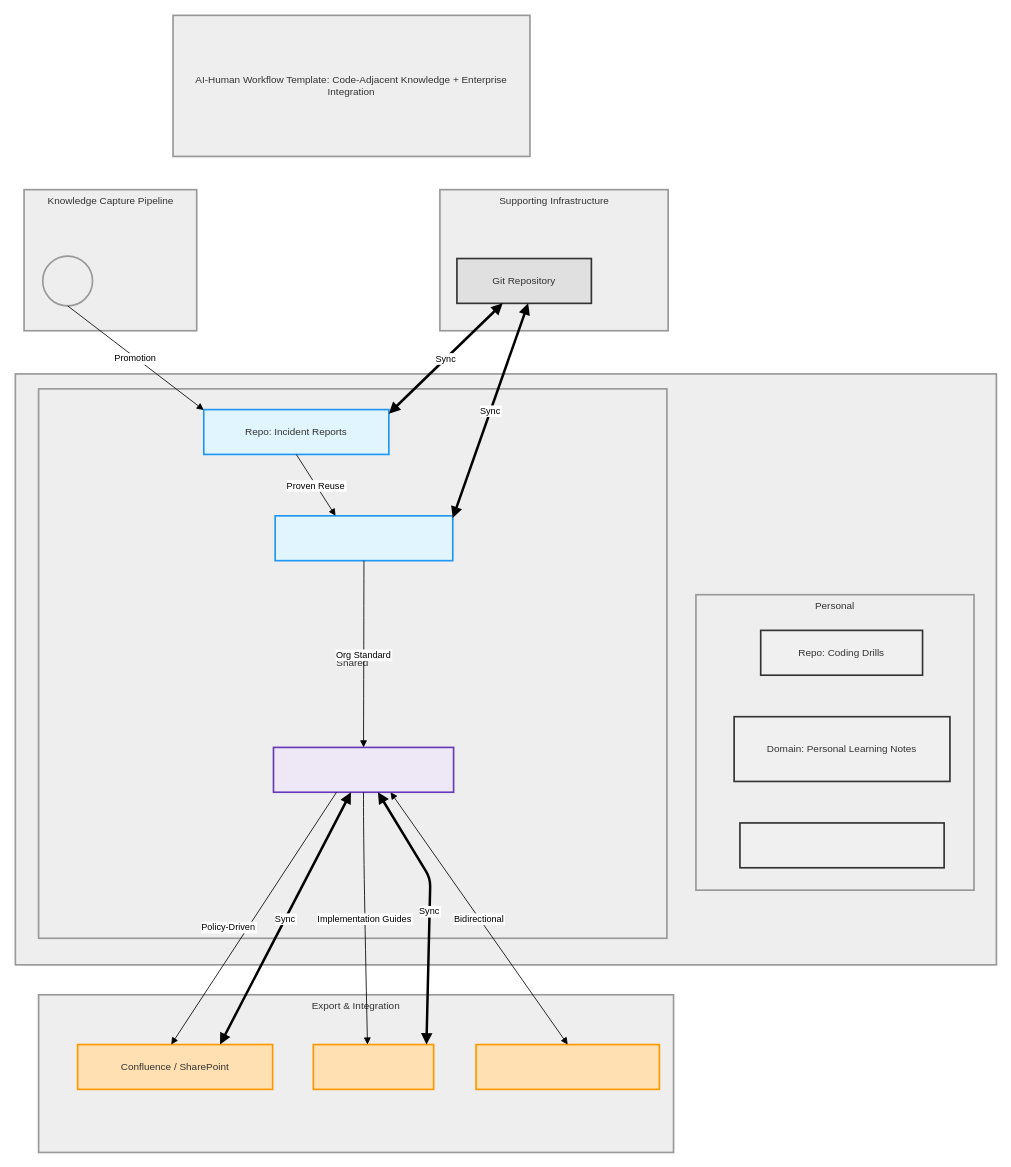
This 1011x1167 diagram has some shape labels left out. The centre of each missing label's shape, as x and y in pixels:
"Architecture Decisions" belongs at point (567, 1066).
"Domain: Case Studies" belongs at point (363, 538).
"GitHub Wiki" belongs at point (373, 1066).
"Global: Agent Instructions" belongs at point (842, 845).
"Global: Org Standards" belongs at point (363, 769).
"Personal Notes" belongs at point (67, 280).
